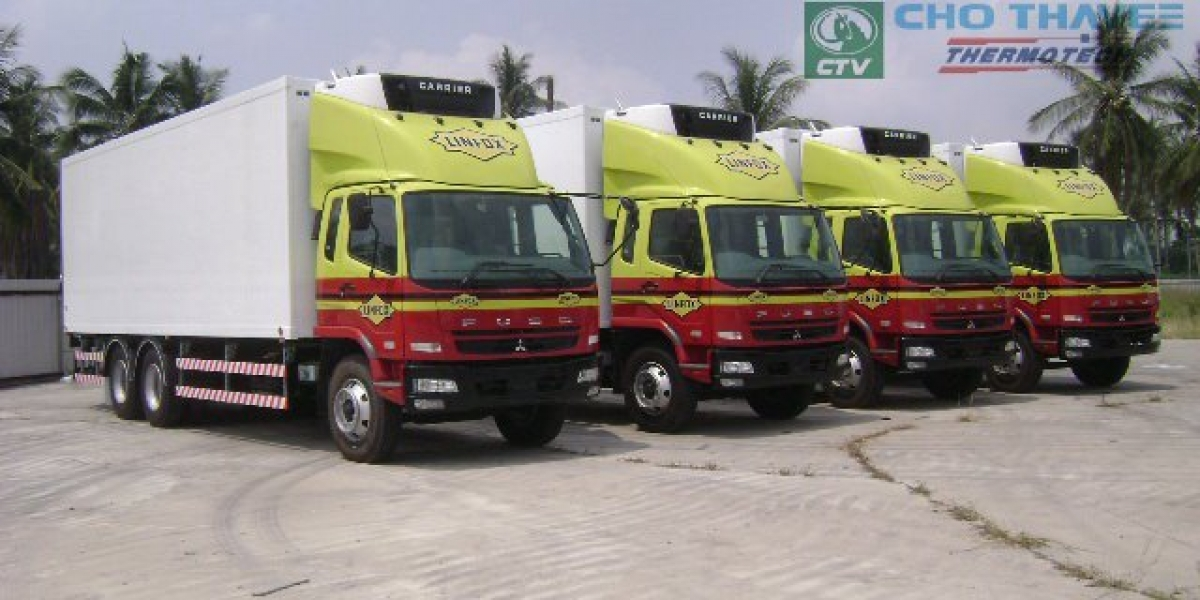truck: (47, 67, 601, 466), (609, 96, 848, 421)
